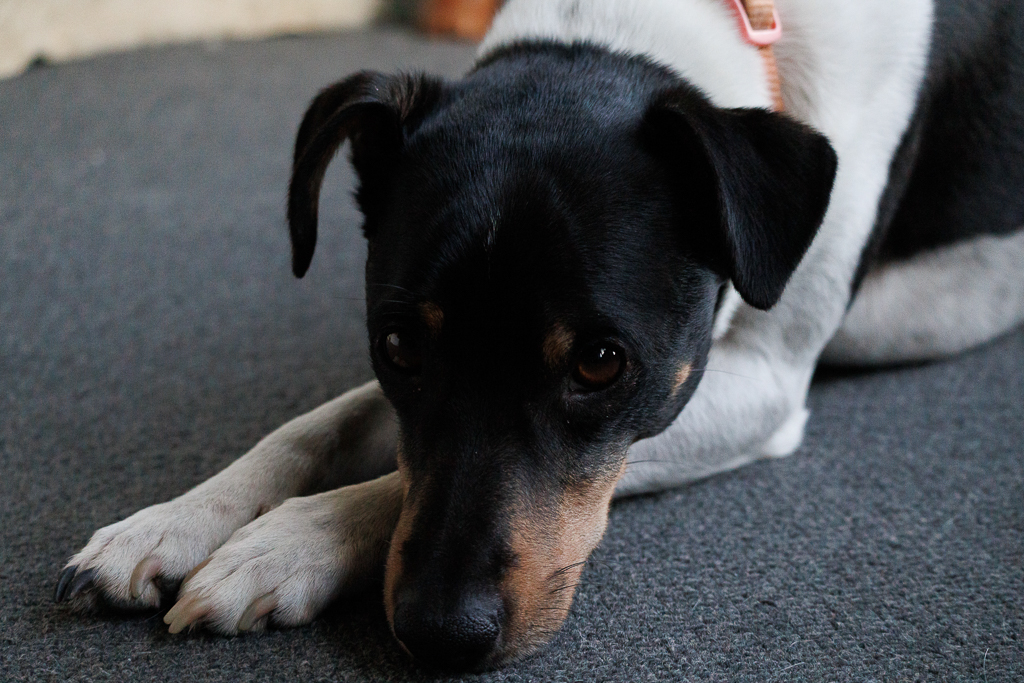Dog: (50, 0, 1024, 679)
